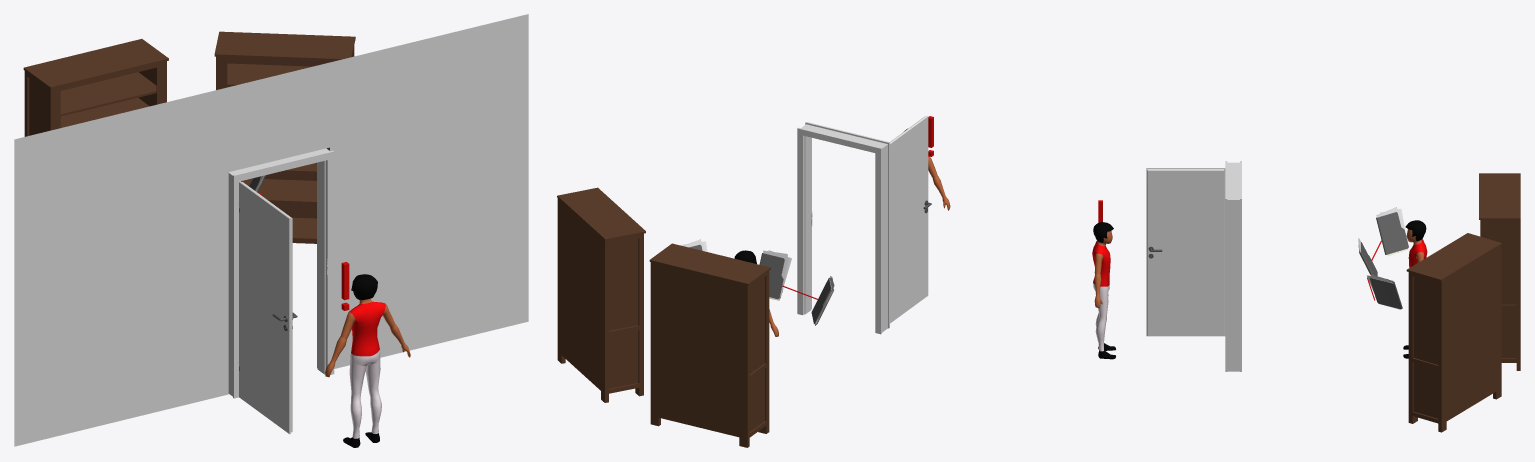
The picture shows the model from 3 angles, left to right: view 1: azimuth 30°, elevation 25°; view 2: azimuth 150°, elevation 25°; view 3: azimuth 270°, elevation 25°; orthographic projection. The views are drawn at different scales.
Visible parts, largest first — view 1: Plane, Plane.001, bookstand, bookstand_body_0.001, Plane.002, corpo.001_calca_0.001, corpo.001_blusa_0.001, corpo.001_pele.004_0.001, corpo.002_cabelo.001_0.001; view 2: bookstand, bookstand_body_0.001, Plane.001, Plane.002, Folder_1Shape; view 3: bookstand_body_0.001, Plane.001, bookstand, Plane.002, Folder_1Shape.001, Folder_1Shape.002, corpo.001_calca_0.001, corpo.001, corpo.001_blusa_0.001, corpo.001_pele.004_0.001.
Part boxes in pixels (bbox=[...]): Plane: bbox=[14, 14, 528, 446]; Plane.001: bbox=[239, 181, 292, 434]; bookstand: bbox=[23, 39, 168, 136]; bookstand_body_0.001: bbox=[214, 31, 355, 243]; Plane.002: bbox=[228, 148, 334, 398]; corpo.001_calca_0.001: bbox=[349, 350, 381, 438]; corpo.001_blusa_0.001: bbox=[349, 301, 385, 356]; corpo.001_pele.004_0.001: bbox=[325, 299, 410, 377]; corpo.002_cabelo.001_0.001: bbox=[351, 274, 377, 299]; bookstand: bbox=[649, 243, 770, 447]; bookstand_body_0.001: bbox=[557, 187, 645, 402]; Plane.001: bbox=[890, 115, 928, 323]; Plane.002: bbox=[797, 122, 889, 334]; Folder_1Shape: bbox=[759, 253, 784, 298]; bookstand_body_0.001: bbox=[1406, 233, 1501, 432]; Plane.001: bbox=[1146, 168, 1225, 336]; bookstand: bbox=[1479, 173, 1520, 370]; Plane.002: bbox=[1225, 161, 1241, 371]; Folder_1Shape.001: bbox=[1376, 212, 1408, 254]; Folder_1Shape.002: bbox=[1370, 278, 1402, 309]; corpo.001_calca_0.001: bbox=[1093, 283, 1109, 351]; corpo.001: bbox=[1403, 229, 1427, 358]; corpo.001_blusa_0.001: bbox=[1092, 241, 1110, 286]; corpo.001_pele.004_0.001: bbox=[1094, 231, 1112, 308].
Bounding box in the file's own units: 7.22 × 4.13 × 6.71.
Materials: 20 (1 with a texture image).
